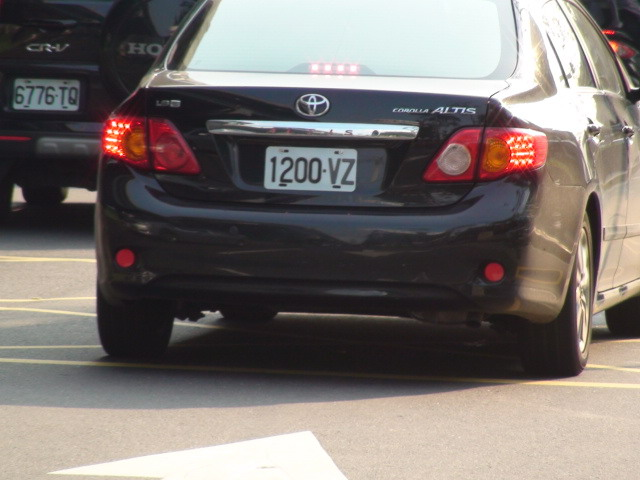plate: (262, 140, 360, 197), (12, 75, 81, 112)
